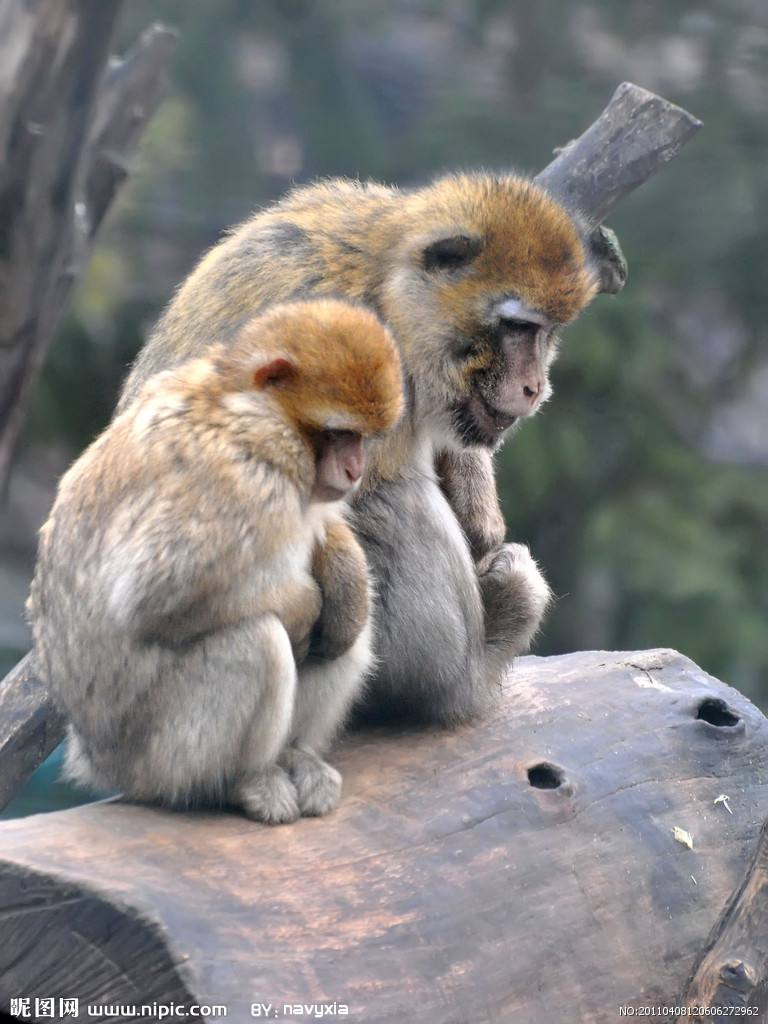monkey: (127, 164, 616, 717), (32, 321, 397, 823)
